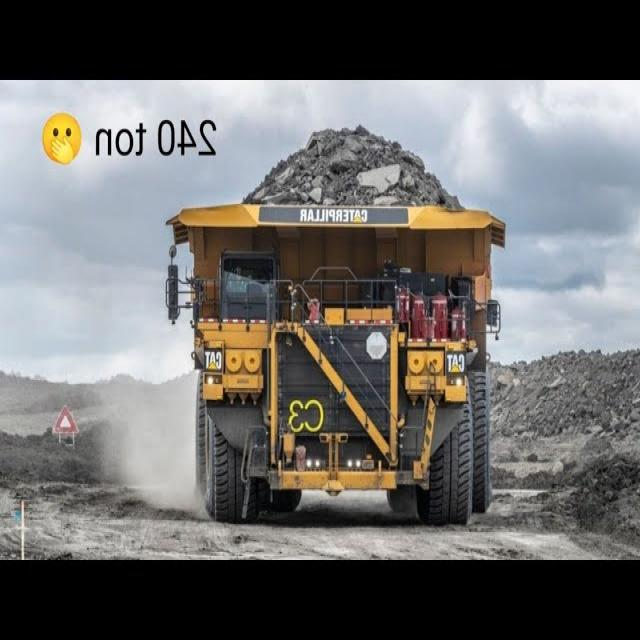truck: (166, 127, 505, 524)
